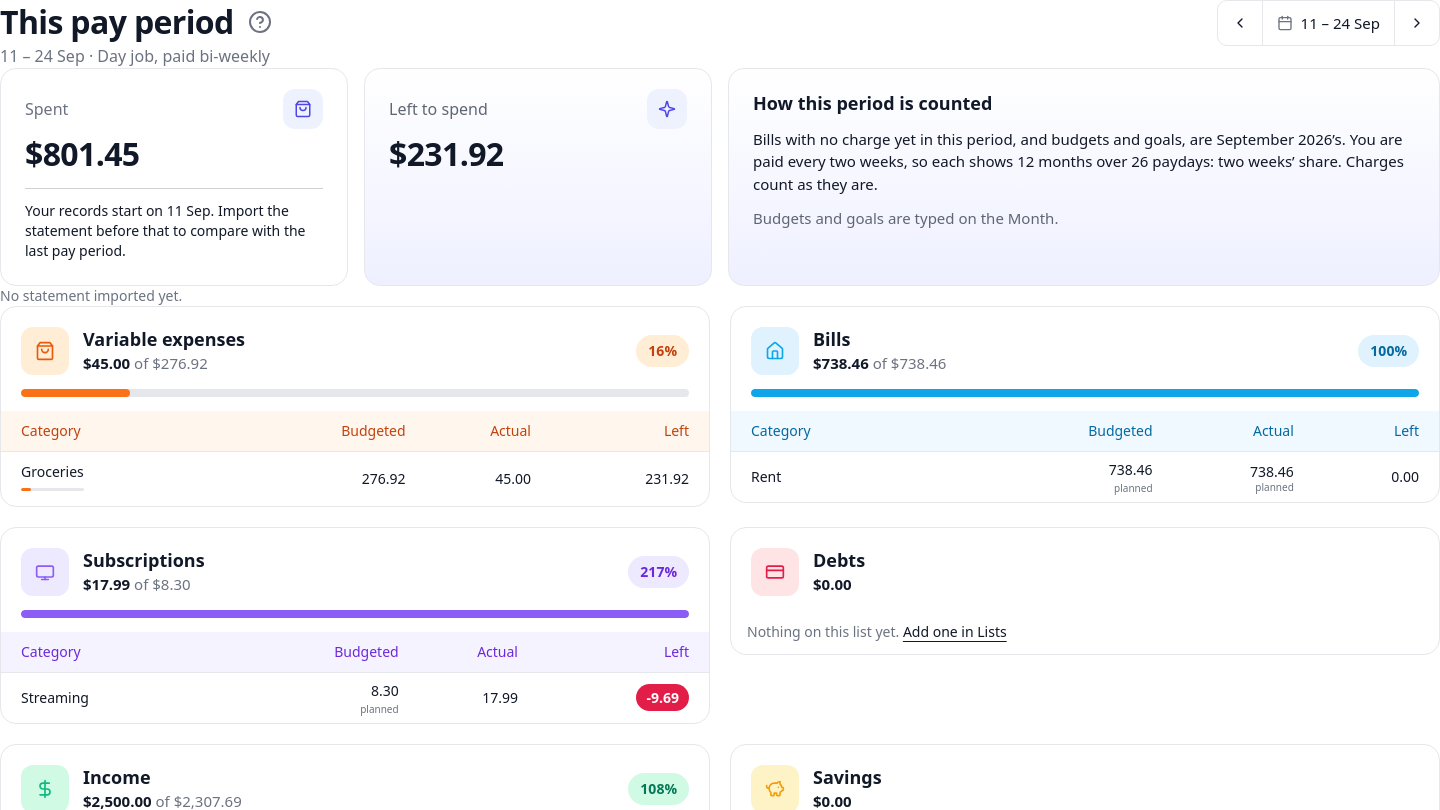
Test: PaycheckPeriod, a row opened (N48) › says so when nothing is filed under a bill in the period, whose amount is its share
Click the button "Rent". click: (766, 477)
box: [751, 467, 781, 487]
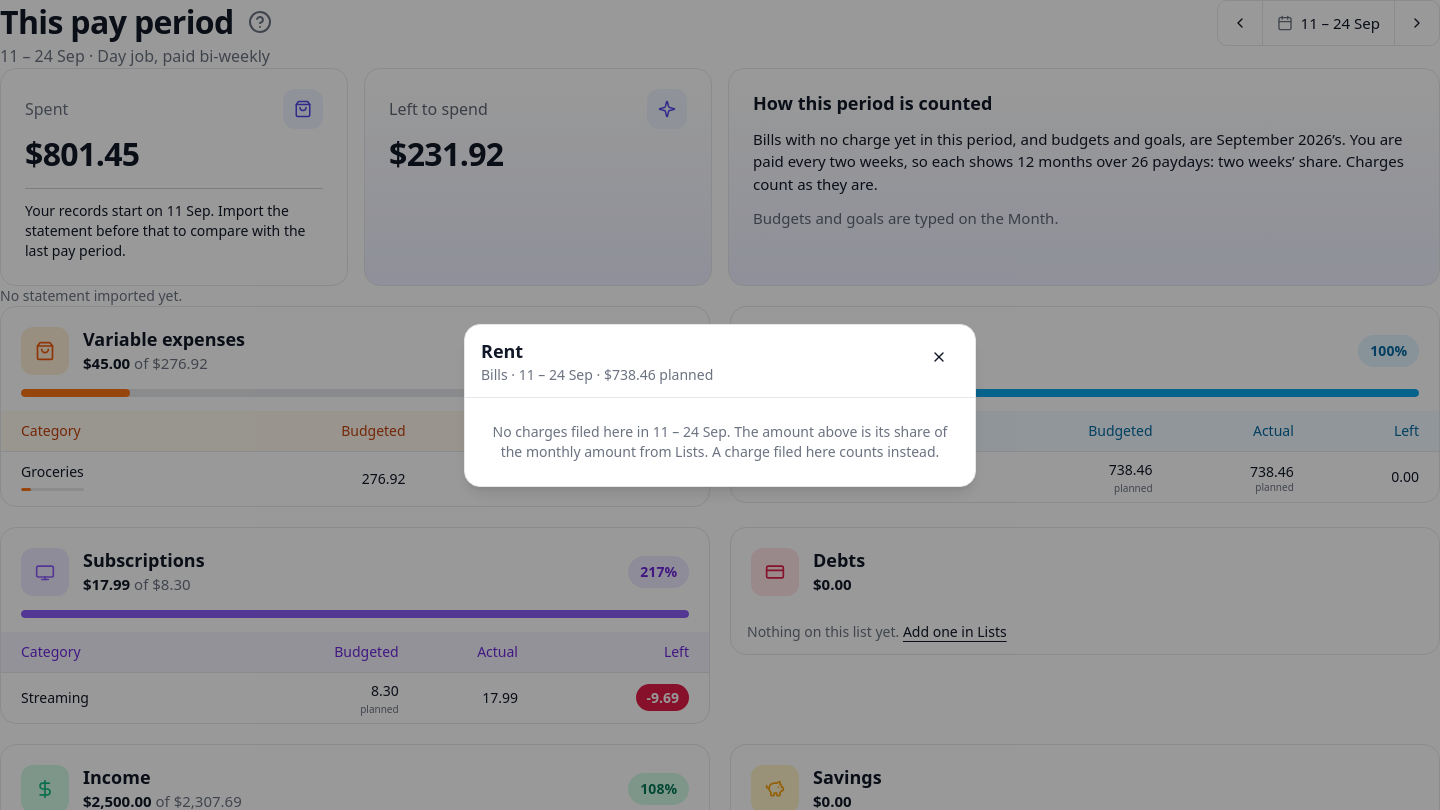
Now the text "No charges filed here in 11 – 24 Sep. The amount above is its share of the monthly amount from Lists. A charge filed her" is shown, box [492, 422, 947, 460]
